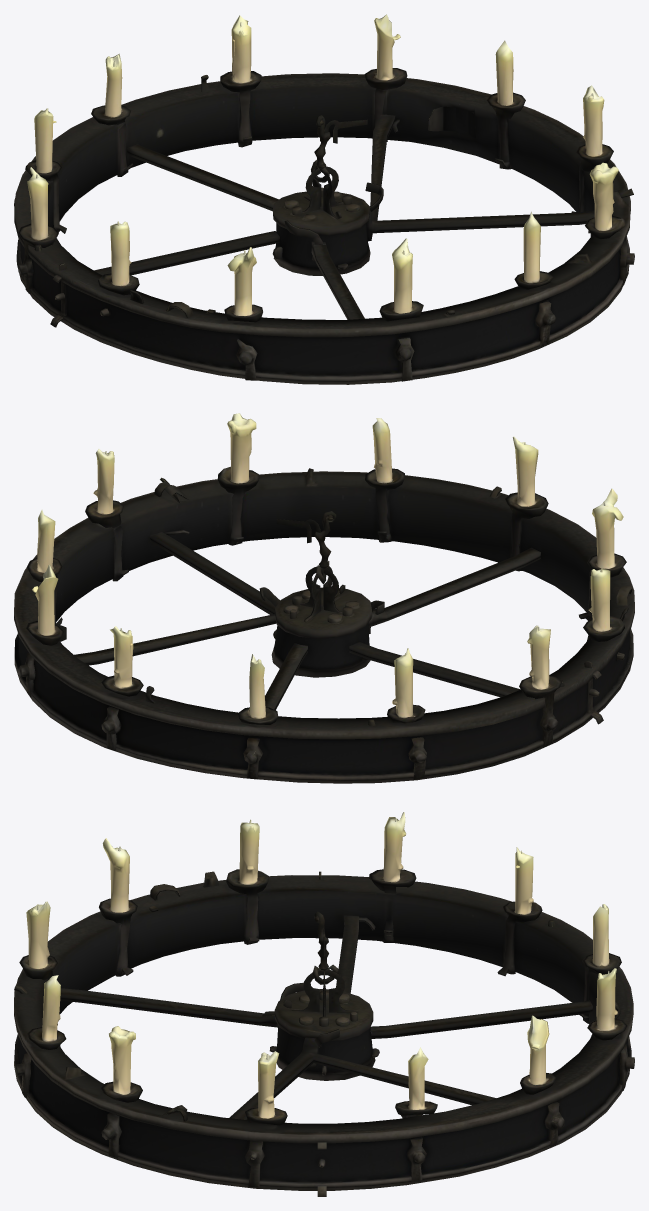
Rendered from lampadario_anello.glb.
The picture shows the model from 3 angles, top to bottom: view 1: azimuth 30°, elevation 25°; view 2: azimuth 150°, elevation 25°; view 3: azimuth 270°, elevation 25°; orthographic projection.
Visible parts, largest first — view 1: lampadario_anello; view 2: lampadario_anello; view 3: lampadario_anello.
Part boxes in pixels (box(x1,y1,x2,y2)): lampadario_anello: box(14, 14, 634, 384); lampadario_anello: box(14, 413, 634, 783); lampadario_anello: box(14, 812, 634, 1196).
Size of the model in its own units: 0.9995 by 0.2603 by 0.9771.
Materials: 1 (1 with a texture image).
